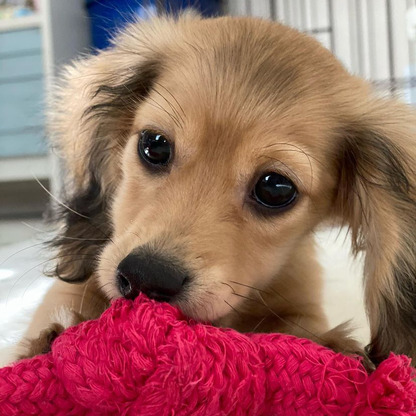dachshund: (61, 17, 374, 343)
